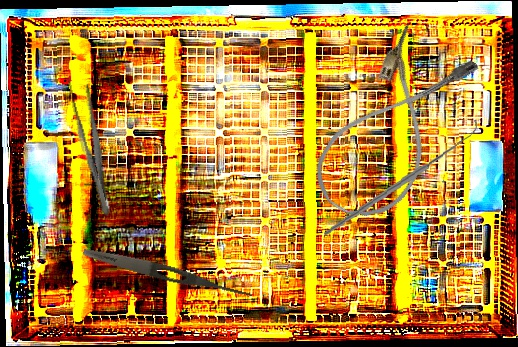Cannula: (301, 19, 485, 236)
Dressing Forceps: (81, 244, 255, 302), (63, 72, 119, 219)
Hook Surgical: (317, 120, 484, 236)
